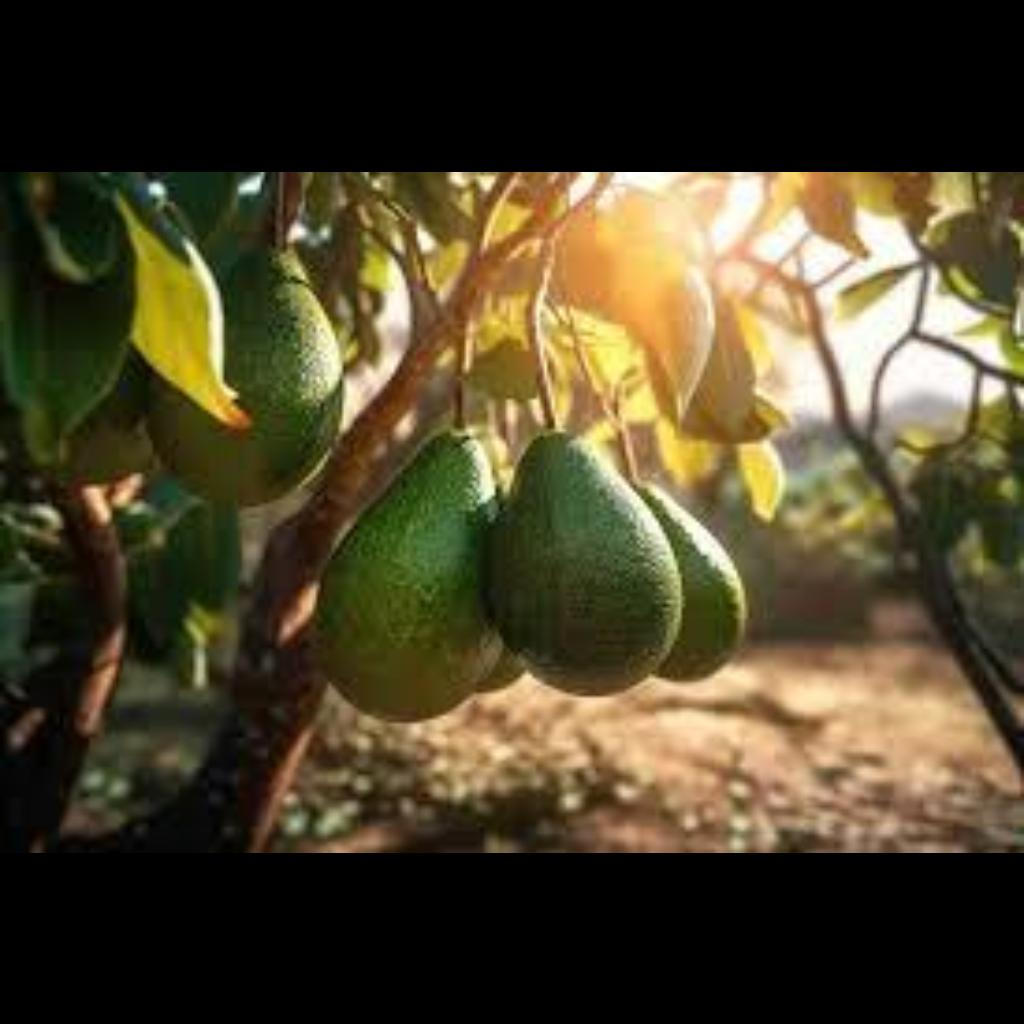Anthracnose: (499, 448, 689, 690)
